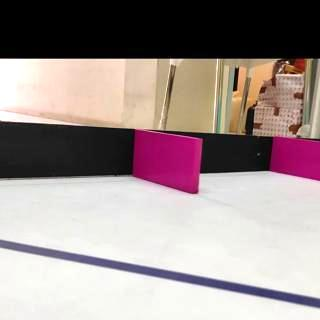xparking: (137, 138, 200, 190), (275, 140, 320, 178)
